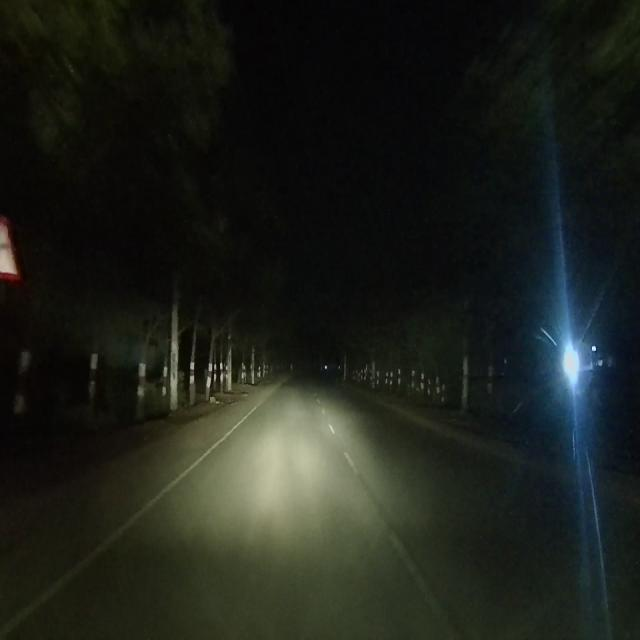right-hand-curve: (0, 212, 21, 289)
